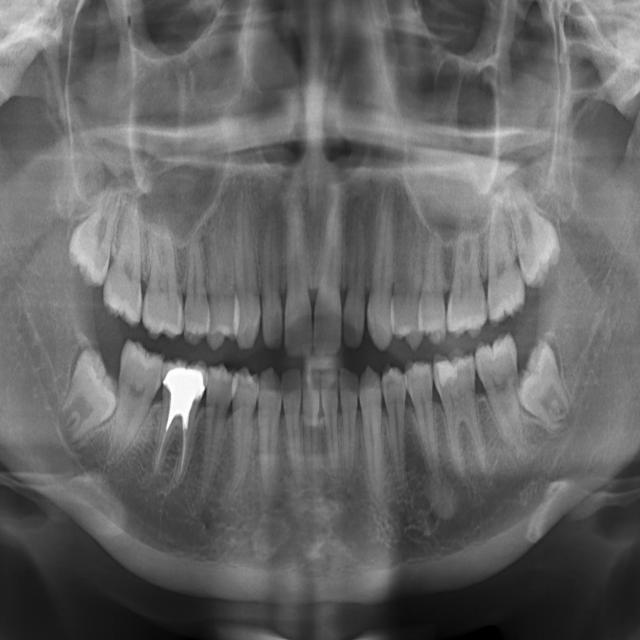CompositeResinRestoration: (437, 352, 459, 399)
Crown: (159, 371, 206, 396)
RootCanalTreatment: (154, 397, 202, 490)
